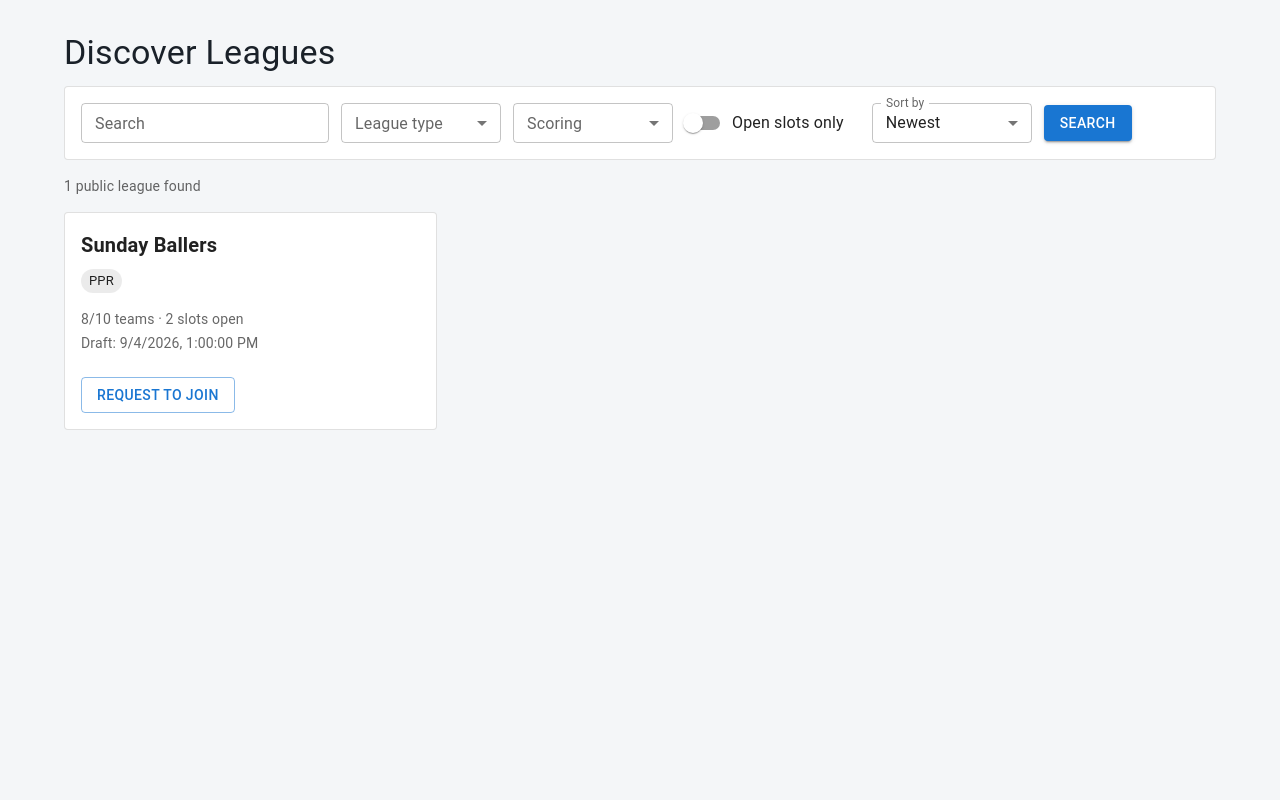
Test: an approval-required league shows "Request to join" and flips to a disabled pending state on 202
expect the heading "Sunday Ballers" is shown: met, box [81, 233, 217, 257]
Click the button "Request to join". click: (158, 395)
box: [81, 377, 235, 413]
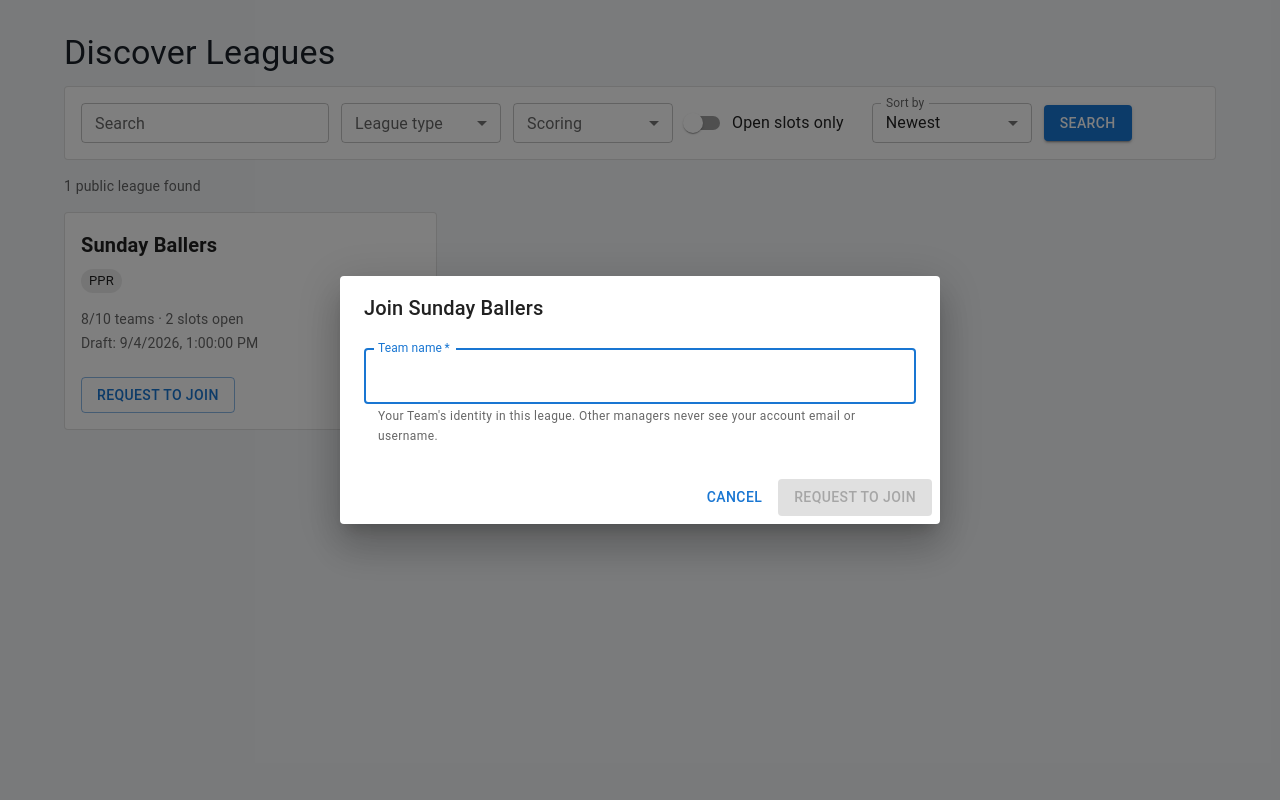
Type "Cory's Squad" into the field labelled "Team name *". click: (640, 376)
box: [364, 348, 916, 404]
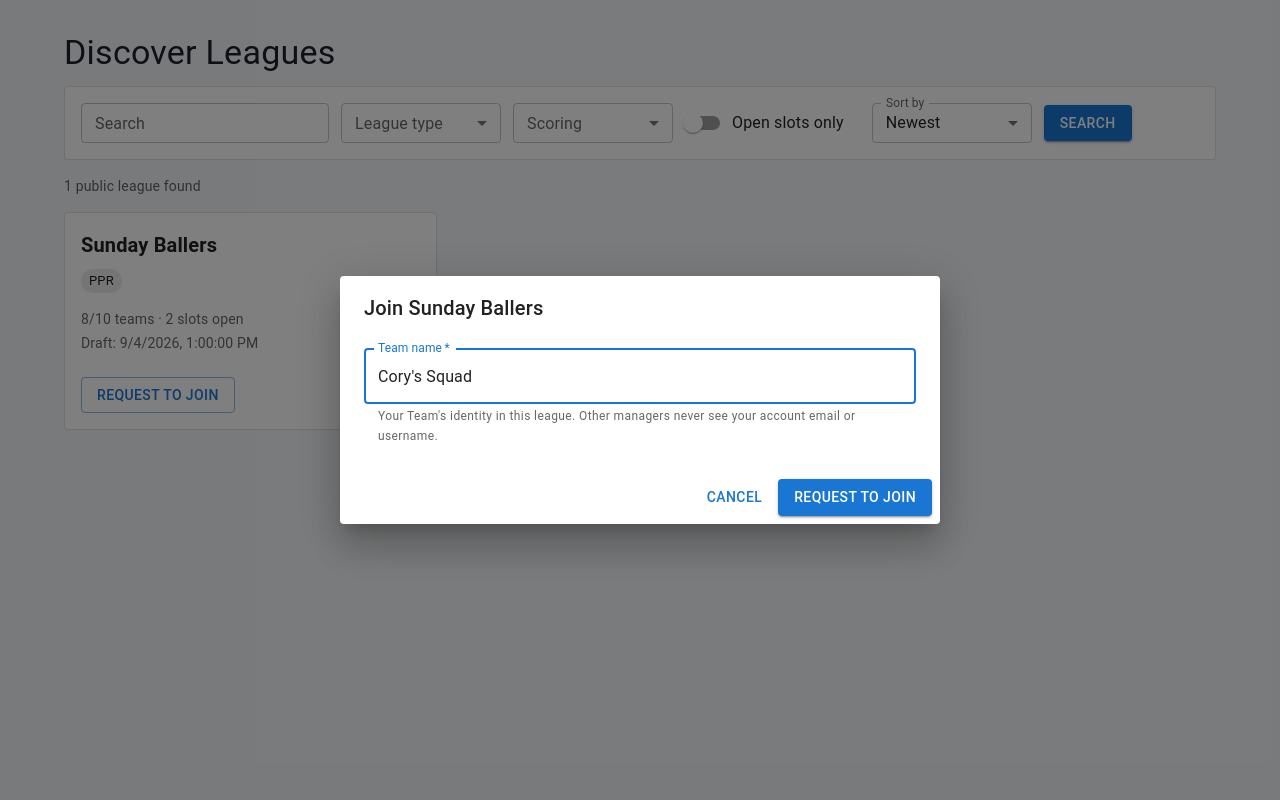
Click the button "Request to join". click: (855, 497)
box: [778, 479, 932, 516]
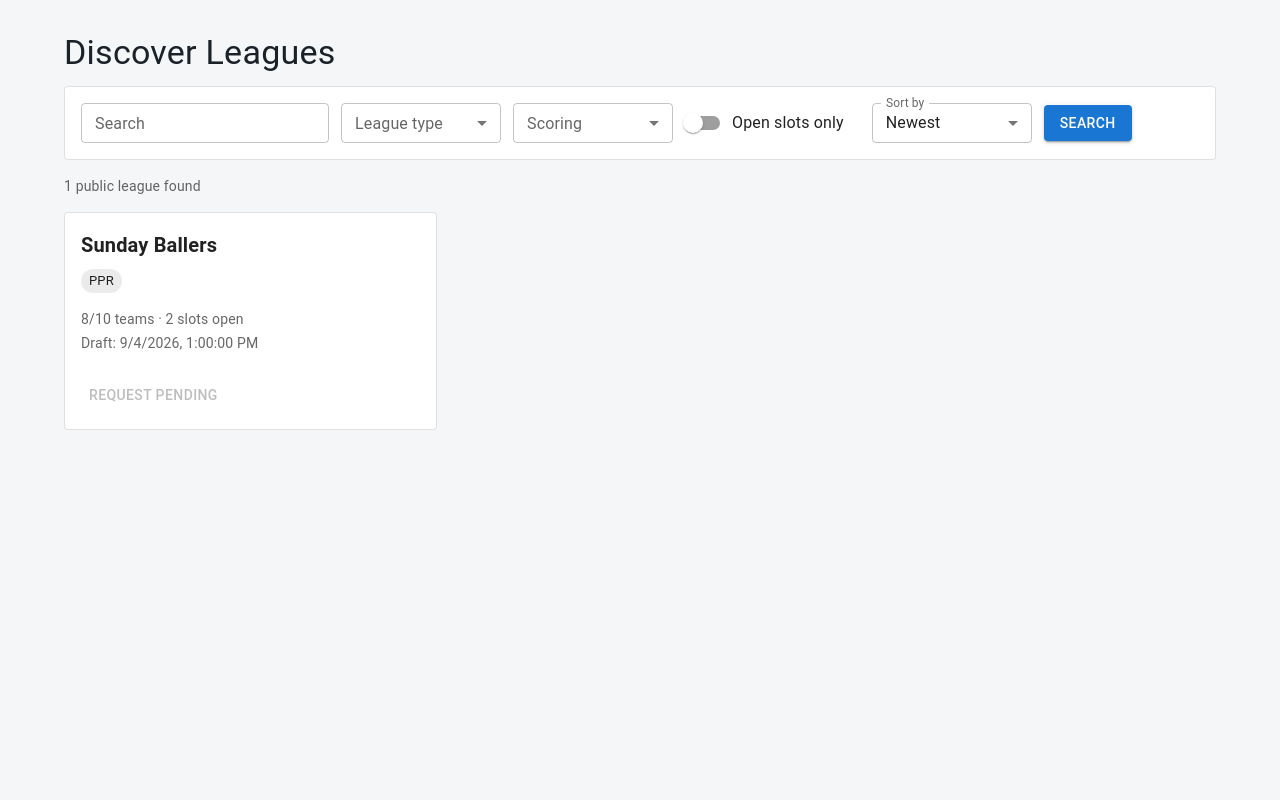
expect the button "Request pending" is disabled: met, box [81, 377, 226, 413]
